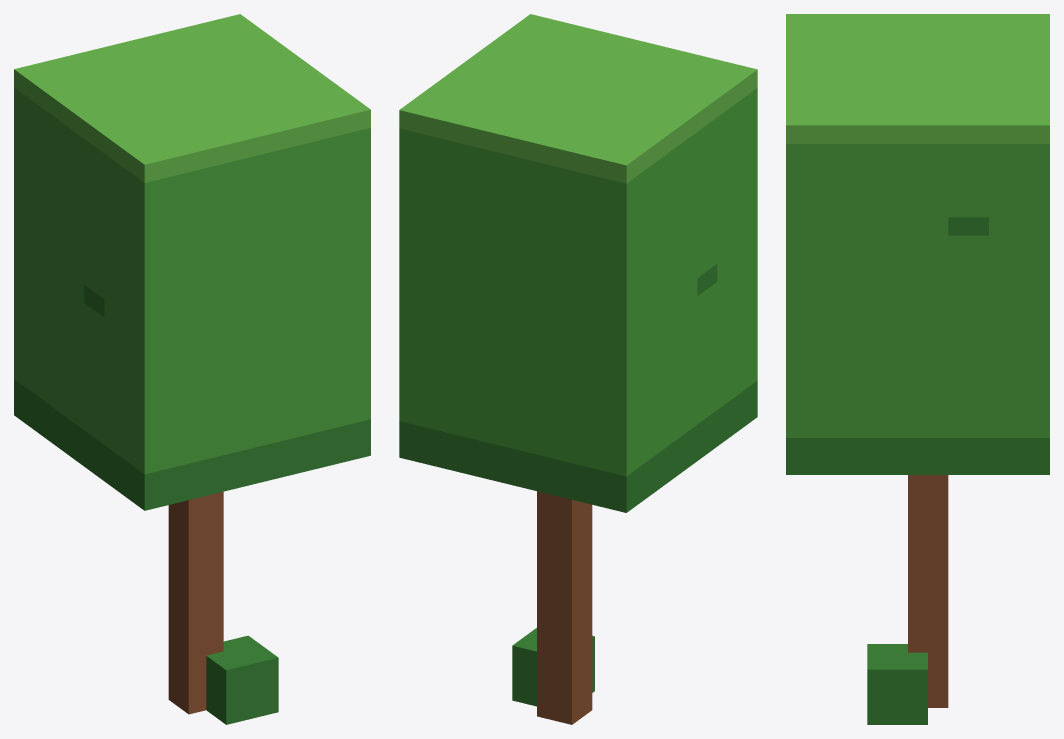
Rendered from deco_tree_box_small_warm.glb.
3 renders of one model, left to right at view 1: azimuth 30°, elevation 25°; view 2: azimuth 150°, elevation 25°; view 3: azimuth 270°, elevation 25°, orthographic.
Visible parts, largest first — view 1: model_0; view 2: model_0; view 3: model_0.
Boxes of the visible parts, x1,y1,x2,y2 form: model_0: [14, 14, 370, 724]; model_0: [399, 14, 757, 724]; model_0: [786, 14, 1049, 724].
Bounding box in the file's own units: 0.52 × 1.36 × 0.52.
